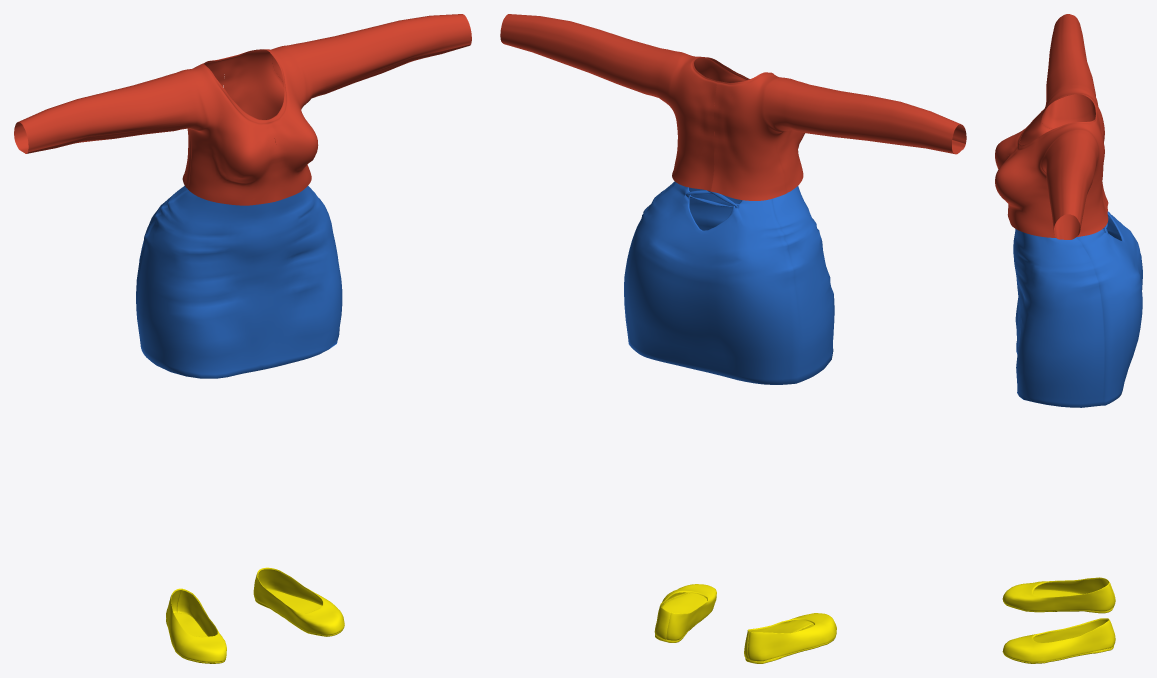
File: Clothes_V4.fbx.fbx
The picture shows the model from 3 angles, left to right: view 1: azimuth 30°, elevation 25°; view 2: azimuth 150°, elevation 25°; view 3: azimuth 270°, elevation 25°; orthographic projection. The views are drawn at different scales.
Visible parts, largest first — view 1: Top, Skirt, Shoes; view 2: Skirt, Top, Shoes; view 3: Skirt, Top, Shoes.
Boxes of the visible parts, x1,y1,x2,y2 form: Top: (14, 14, 471, 205); Skirt: (136, 185, 342, 378); Shoes: (166, 567, 344, 663); Skirt: (624, 181, 834, 384); Top: (500, 14, 966, 200); Shoes: (654, 584, 836, 663); Skirt: (1013, 211, 1142, 407); Top: (995, 14, 1108, 239); Shoes: (1002, 577, 1115, 663).
Size of the model in its own units: 98.87 by 121 by 30.89.
